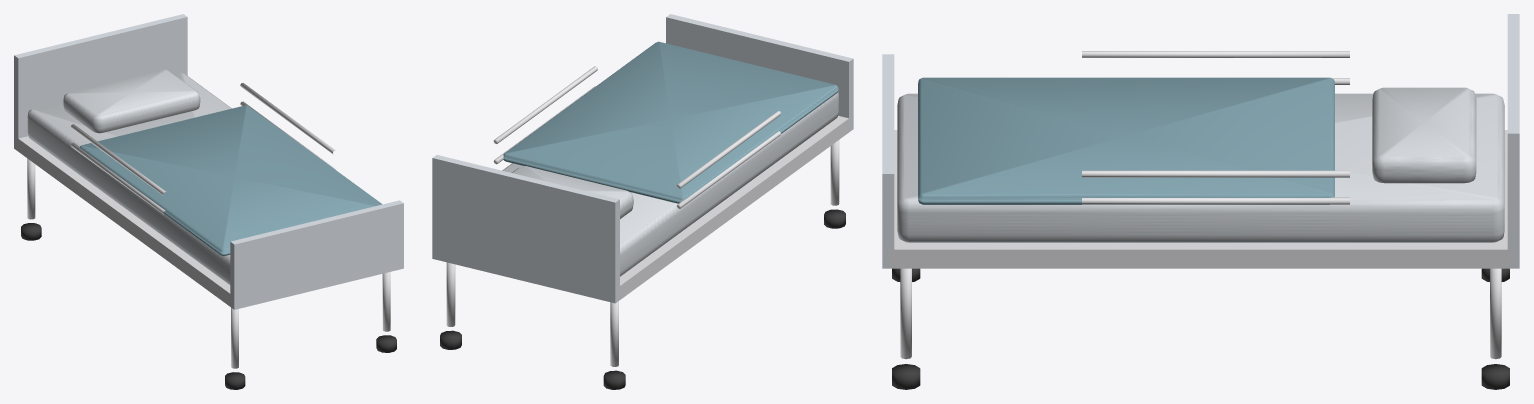
Rendered from hospital_bed.glb.
The picture shows the model from 3 angles, left to right: view 1: azimuth 30°, elevation 25°; view 2: azimuth 150°, elevation 25°; view 3: azimuth 270°, elevation 25°; orthographic projection. The views are drawn at different scales.
Visible parts, largest first — view 1: HospitalBed; view 2: HospitalBed; view 3: HospitalBed.
Boxes of the visible parts, box(x1,y1,x2,y2) form: HospitalBed: box(14, 14, 403, 389); HospitalBed: box(432, 14, 853, 389); HospitalBed: box(882, 14, 1519, 389).
Bounding box in the file's own units: 0.974 × 0.95 × 2.14.
5 materials, 2 textured.
